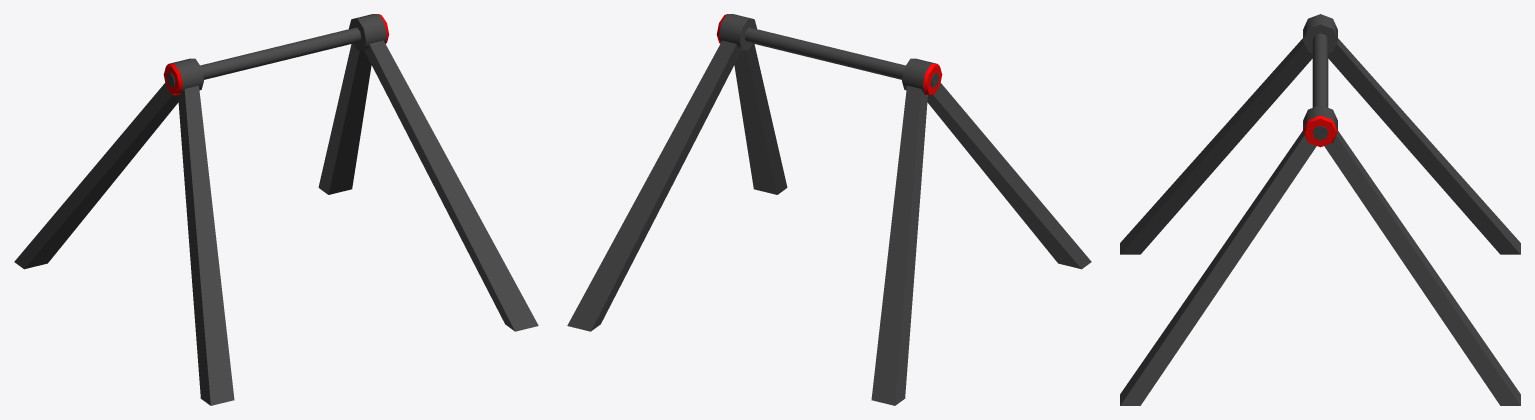
The model's file is target-rotating-stand-red.glb.
3 renders of one model, left to right at view 1: azimuth 30°, elevation 25°; view 2: azimuth 150°, elevation 25°; view 3: azimuth 270°, elevation 25°, orthographic.
Parts seen in each view (by area): view 1: redStand; view 2: redStand; view 3: redStand.
Boxes of the visible parts, x1,y1,x2,y2 form: redStand: (14, 14, 538, 405); redStand: (567, 14, 1091, 405); redStand: (1120, 14, 1520, 405).
Size of the model in its own units: 2.69 by 2 by 2.79.
Materials: 1 (1 with a texture image).
